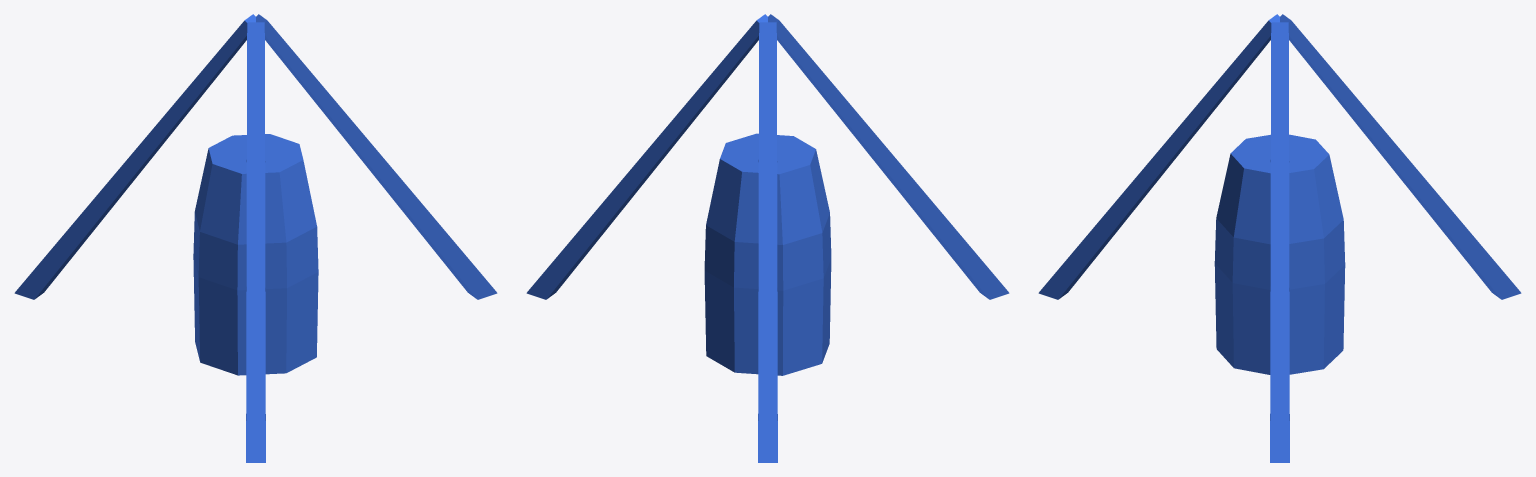
Rendered from Collision_CampfireTripod.fbx.
3 views of the same model, side by side, from view 1: azimuth 30°, elevation 25°; view 2: azimuth 150°, elevation 25°; view 3: azimuth 270°, elevation 25° (orthographic).
Parts seen in each view (by area): view 1: UCX_CampfireTripod_2, UCX_CampfireTripod_3, UCX_CampfireTripod_1, UCX_CampfireTripod_4; view 2: UCX_CampfireTripod_2, UCX_CampfireTripod_4, UCX_CampfireTripod_1, UCX_CampfireTripod_3; view 3: UCX_CampfireTripod_2, UCX_CampfireTripod_1, UCX_CampfireTripod_3, UCX_CampfireTripod_4.
Part boxes in pixels (x1=…): UCX_CampfireTripod_2: x1=193, y1=134, x2=318, y2=375; UCX_CampfireTripod_3: x1=246, y1=22, x2=265, y2=462; UCX_CampfireTripod_1: x1=256, y1=14, x2=497, y2=299; UCX_CampfireTripod_4: x1=14, y1=14, x2=255, y2=299; UCX_CampfireTripod_2: x1=704, y1=133, x2=831, y2=375; UCX_CampfireTripod_4: x1=758, y1=22, x2=777, y2=462; UCX_CampfireTripod_1: x1=526, y1=14, x2=767, y2=299; UCX_CampfireTripod_3: x1=768, y1=14, x2=1009, y2=299; UCX_CampfireTripod_2: x1=1214, y1=134, x2=1345, y2=374; UCX_CampfireTripod_1: x1=1270, y1=22, x2=1289, y2=462; UCX_CampfireTripod_3: x1=1038, y1=14, x2=1279, y2=299; UCX_CampfireTripod_4: x1=1280, y1=14, x2=1521, y2=299.
Size of the model in its own units: 176 by 153 by 203.
